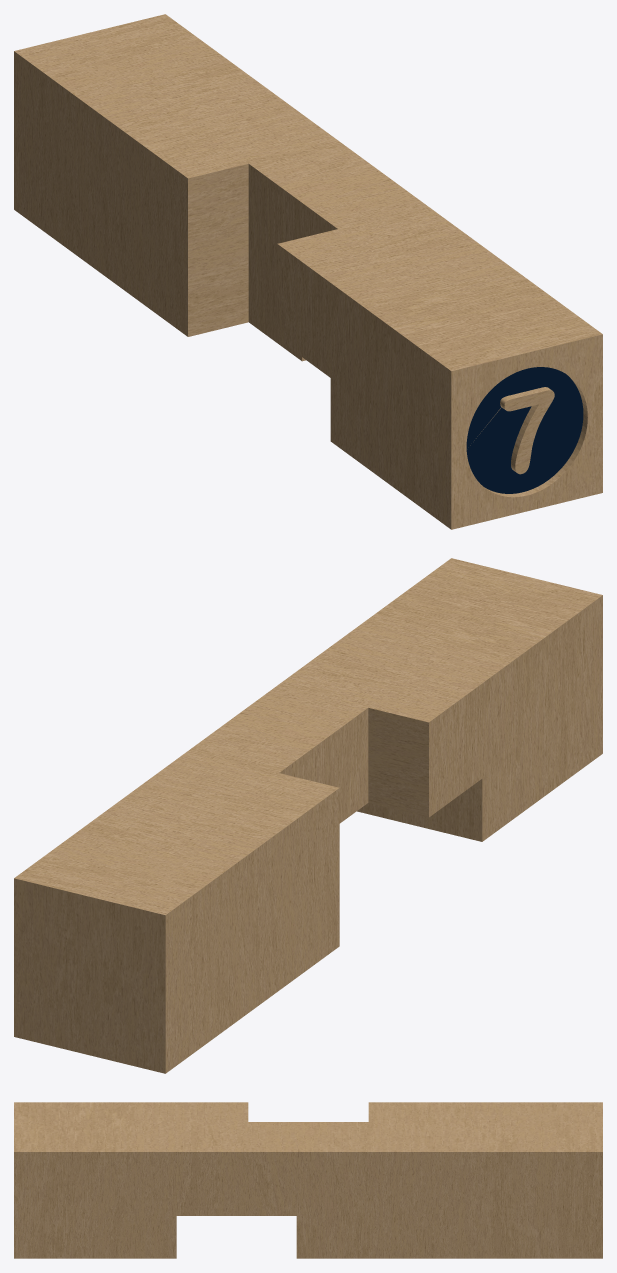
File: Piece7.glb
The picture shows the model from 3 angles, top to bottom: view 1: azimuth 30°, elevation 25°; view 2: azimuth 150°, elevation 25°; view 3: azimuth 270°, elevation 25°; orthographic projection. The views are drawn at different scales.
Parts seen in each view (by area): view 1: Piece7; view 2: Piece7; view 3: Piece7.
Part boxes in pixels (x1,y1,x2,y2): Piece7: (14,14,602,529); Piece7: (14,558,602,1073); Piece7: (14,1102,602,1258).
Bounding box in the file's own units: 10 × 10 × 50.
Materials: 2 (1 with a texture image).
